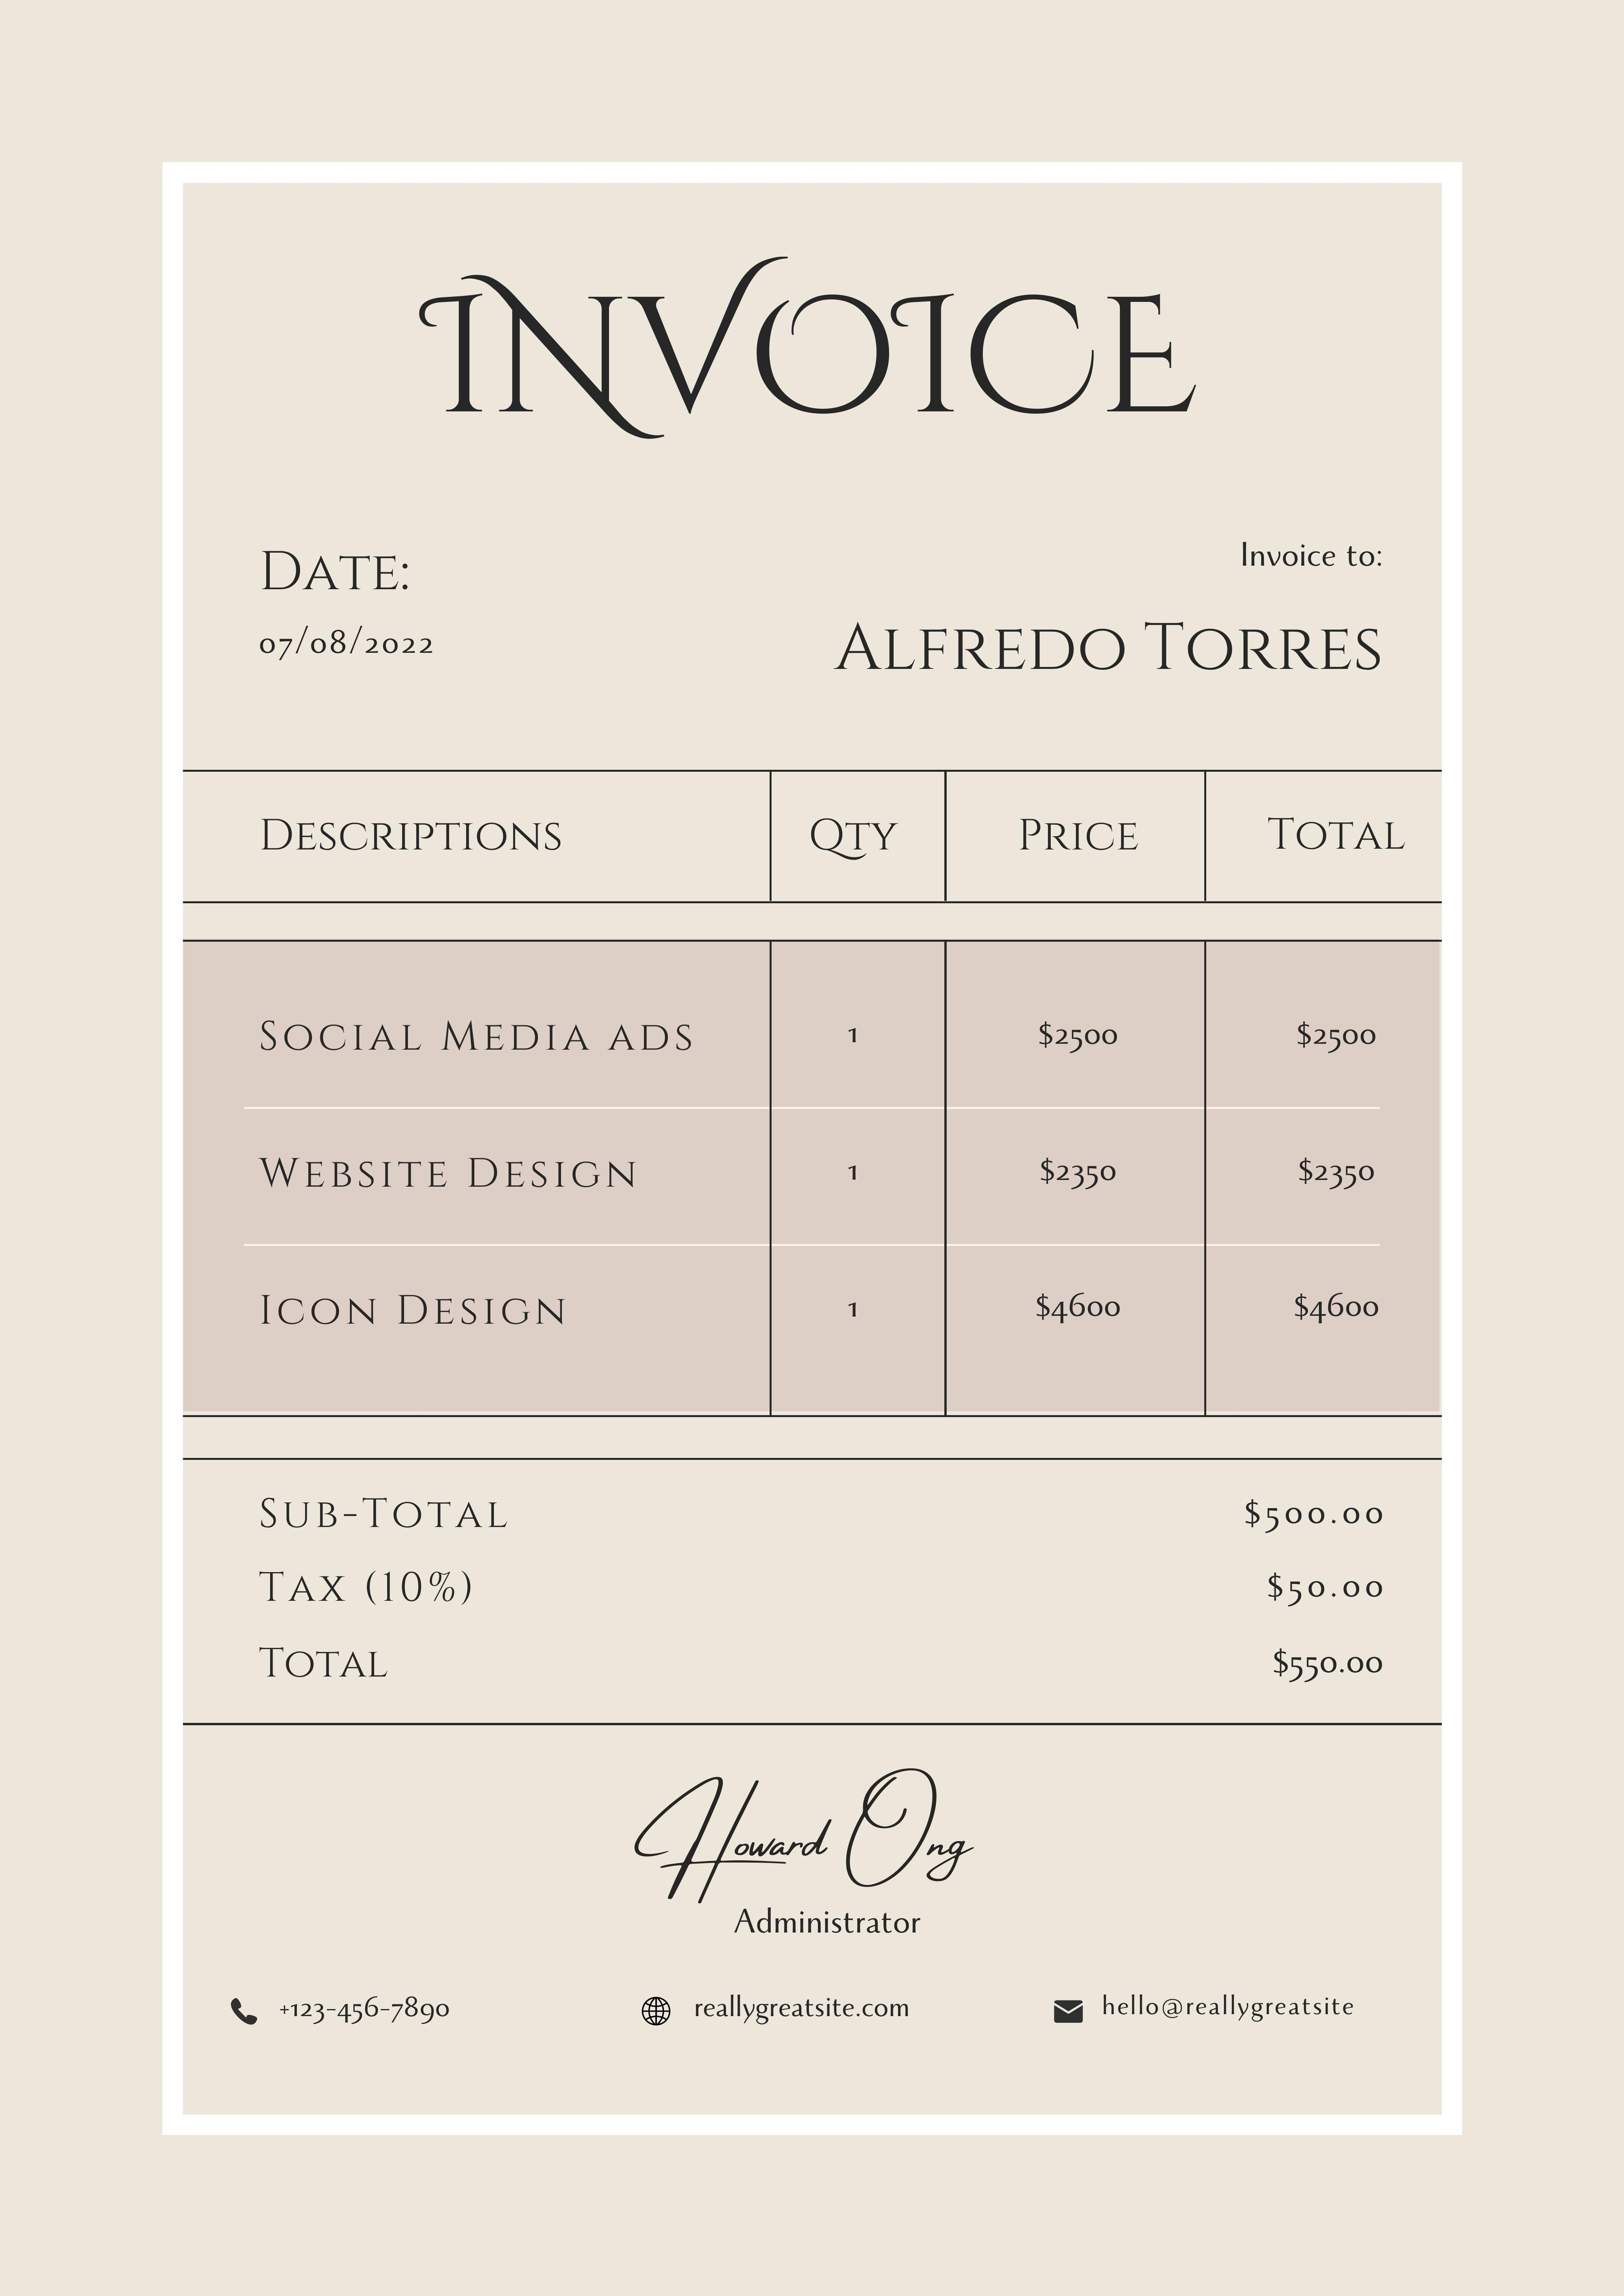ROI: (178, 757, 1448, 1412), (236, 1476, 1425, 1692), (801, 534, 1410, 703), (626, 1757, 1005, 1913)
